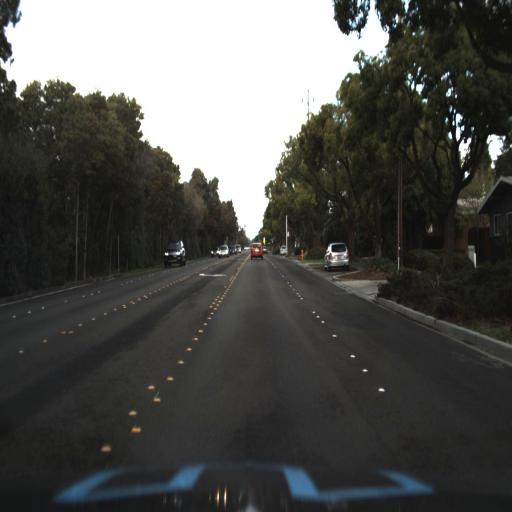car: (323, 235, 352, 273), (155, 233, 188, 266), (247, 234, 267, 262), (216, 240, 233, 260)
